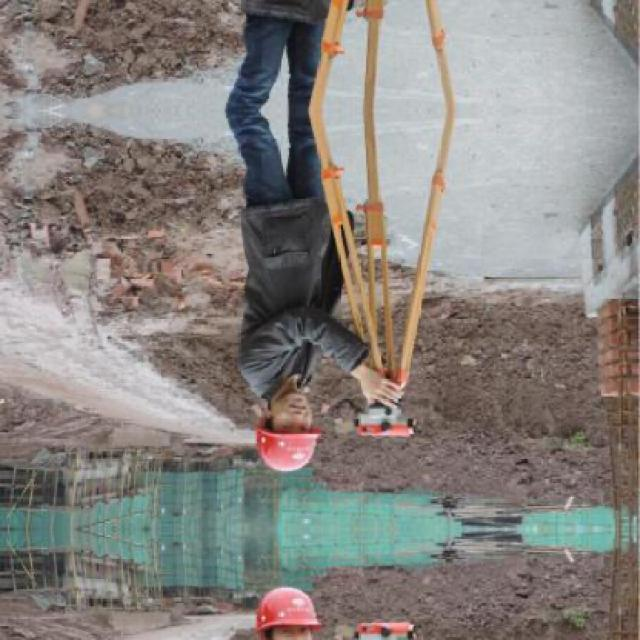con casco: (230, 294, 349, 501)
